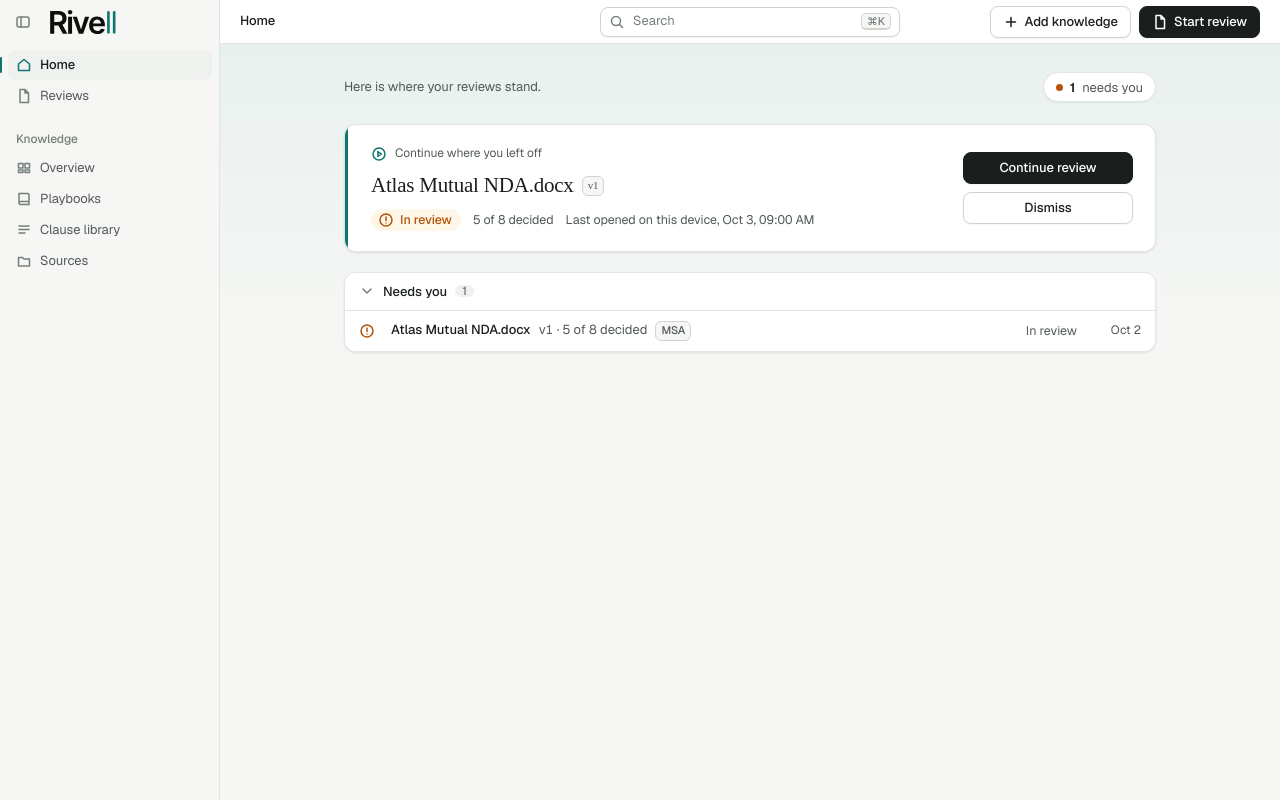
Test: Continue where you left off › can be dismissed, which clears the saved place
Expected: the element "Continue where you left off" is shown, [344,124,1156,252]
Step 1. Click the button "Dismiss" → (1048, 208), box [963,192,1133,224]
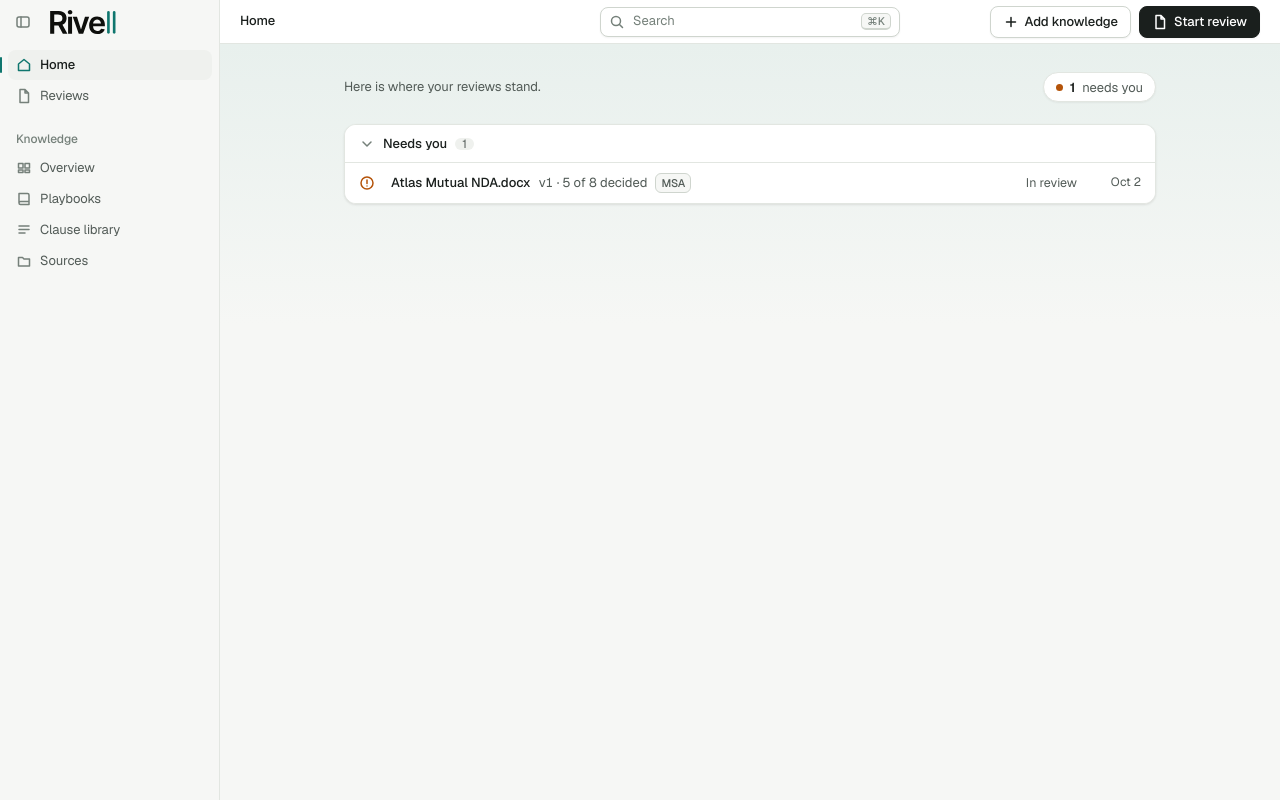
Expected: the element "Continue where you left off" is gone
